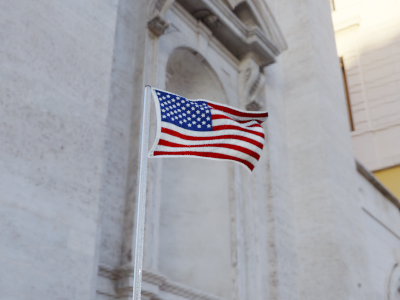America flag: (149, 88, 269, 172)
